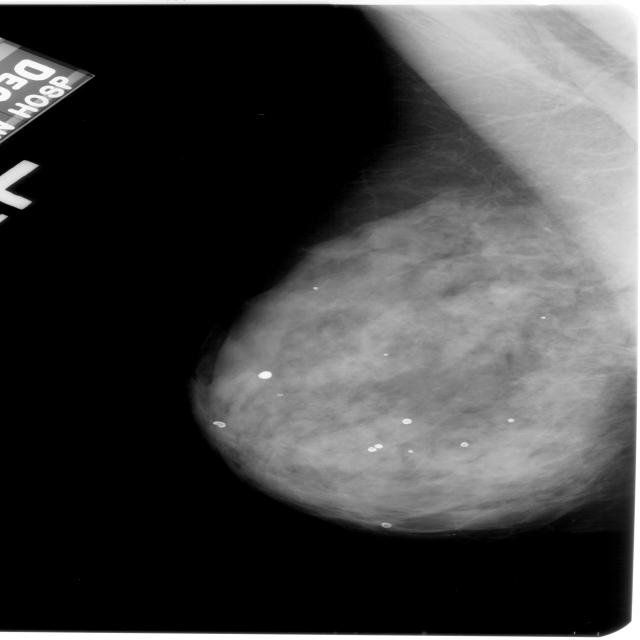normal: (187, 141, 640, 548)
